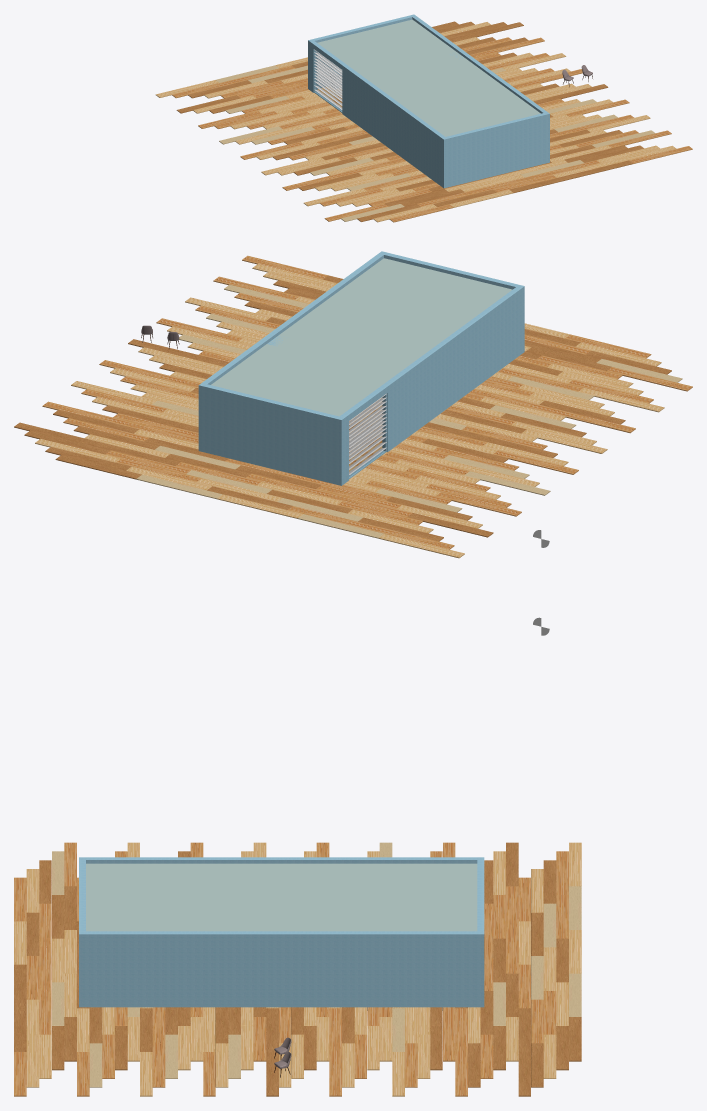
File: house.glb
3 renders of one model, top to bottom at view 1: azimuth 30°, elevation 25°; view 2: azimuth 150°, elevation 25°; view 3: azimuth 270°, elevation 25°, orthographic. The views are drawn at different scales.
Visible parts, largest first — view 1: Wood Floor Brick Bond, Compound Ceiling GWB on Mtl Stud 2 [250827], Basic Wall 230 wall with finish [250674], Basic Wall 230 wall with finish [250675], Casework 10 Casework 10 [274720], Basic Wall 230 wall with finish [250676], Basic Wall 230 wall with finish [250673], System Panel Glazed [251394]; view 2: Wood Floor Brick Bond, Compound Ceiling GWB on Mtl Stud 2 [250827], Basic Wall 230 wall with finish [250674], Basic Wall 230 wall with finish [250673], Basic Wall 230 wall with finish [250676], Casework 10 Casework 10 [274720], System Panel Glazed [251394], Basic Wall 230 wall with finish [250675]; view 3: Wood Floor Brick Bond, Basic Wall 230 wall with finish [250676], Compound Ceiling GWB on Mtl Stud 2 [250827], Basic Wall 230 wall with finish [250674], Basic Wall 230 wall with finish [250675].
Boxes of the visible parts, bbox=[...] form: Wood Floor Brick Bond: bbox=[155, 21, 692, 222]; Compound Ceiling GWB on Mtl Stud 2 [250827]: bbox=[317, 19, 540, 136]; Basic Wall 230 wall with finish [250674]: bbox=[310, 41, 447, 188]; Basic Wall 230 wall with finish [250675]: bbox=[446, 112, 549, 187]; Casework 10 Casework 10 [274720]: bbox=[314, 49, 342, 109]; Basic Wall 230 wall with finish [250676]: bbox=[410, 14, 546, 113]; Basic Wall 230 wall with finish [250673]: bbox=[308, 15, 412, 90]; System Panel Glazed [251394]: bbox=[316, 52, 341, 110]; Wood Floor Brick Bond: bbox=[14, 255, 692, 558]; Compound Ceiling GWB on Mtl Stud 2 [250827]: bbox=[211, 258, 512, 416]; Basic Wall 230 wall with finish [250674]: bbox=[339, 285, 524, 483]; Basic Wall 230 wall with finish [250673]: bbox=[204, 384, 344, 485]; Basic Wall 230 wall with finish [250676]: bbox=[198, 253, 383, 452]; Casework 10 Casework 10 [274720]: bbox=[349, 393, 386, 475]; System Panel Glazed [251394]: bbox=[349, 396, 384, 476]; Basic Wall 230 wall with finish [250675]: bbox=[379, 251, 518, 289]; Wood Floor Brick Bond: bbox=[14, 842, 581, 1096]; Basic Wall 230 wall with finish [250676]: bbox=[86, 931, 484, 1007]; Compound Ceiling GWB on Mtl Stud 2 [250827]: bbox=[86, 863, 477, 931]; Basic Wall 230 wall with finish [250674]: bbox=[79, 857, 477, 863]; Basic Wall 230 wall with finish [250675]: bbox=[79, 860, 85, 1007].
Size of the model in its own units: 29.03 by 4.8 by 25.34.
Materials: 38 (14 with a texture image).
